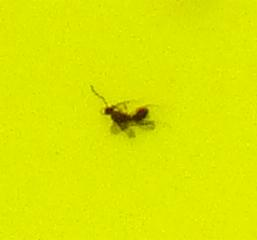Hymenoptera: (100, 100, 157, 140)
